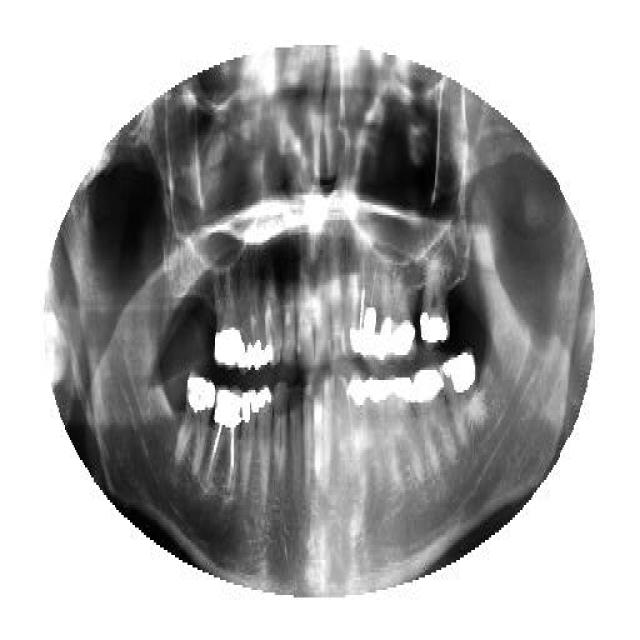Fillings: (414, 368, 456, 480), (171, 370, 214, 475), (208, 260, 244, 378), (390, 370, 421, 502), (444, 352, 486, 442), (362, 247, 388, 365), (419, 252, 450, 348), (388, 255, 413, 363), (245, 265, 269, 375), (345, 370, 371, 465), (338, 255, 362, 357), (238, 388, 258, 510), (369, 375, 390, 487), (256, 382, 272, 518)
Implant: (211, 383, 240, 495)
